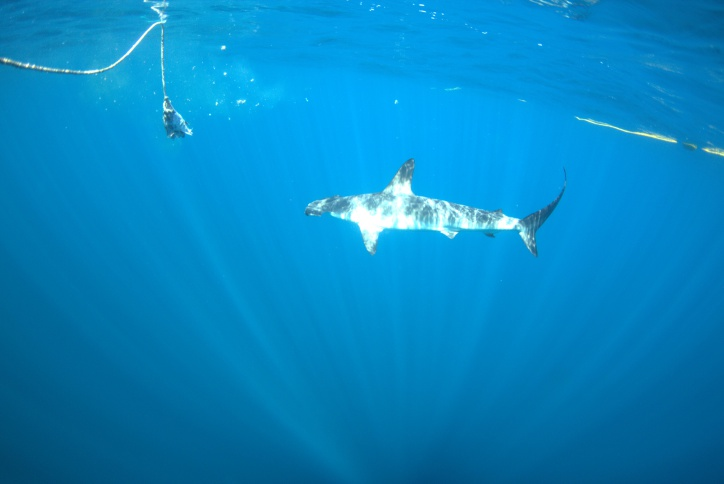Hammer: (287, 146, 610, 271)
